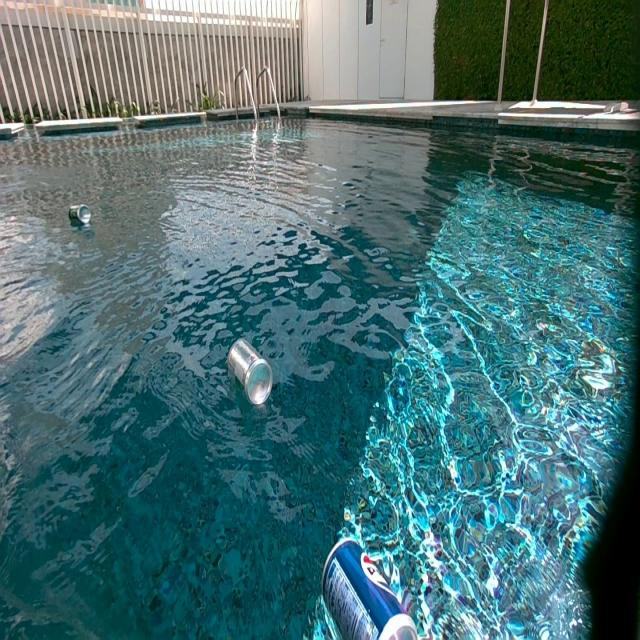Cans: (320, 534, 423, 636), (228, 339, 274, 406), (69, 205, 90, 226)
